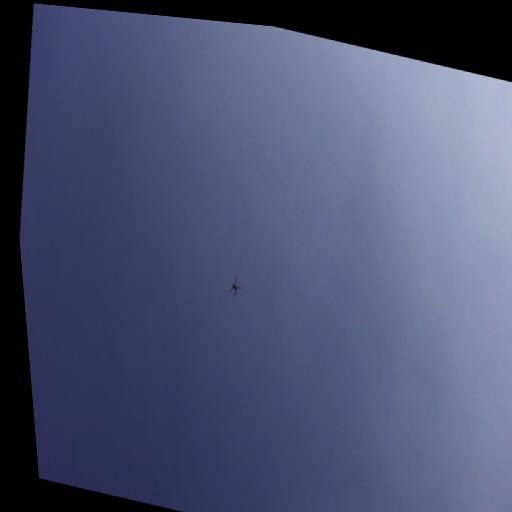drones: (226, 274, 244, 299)
